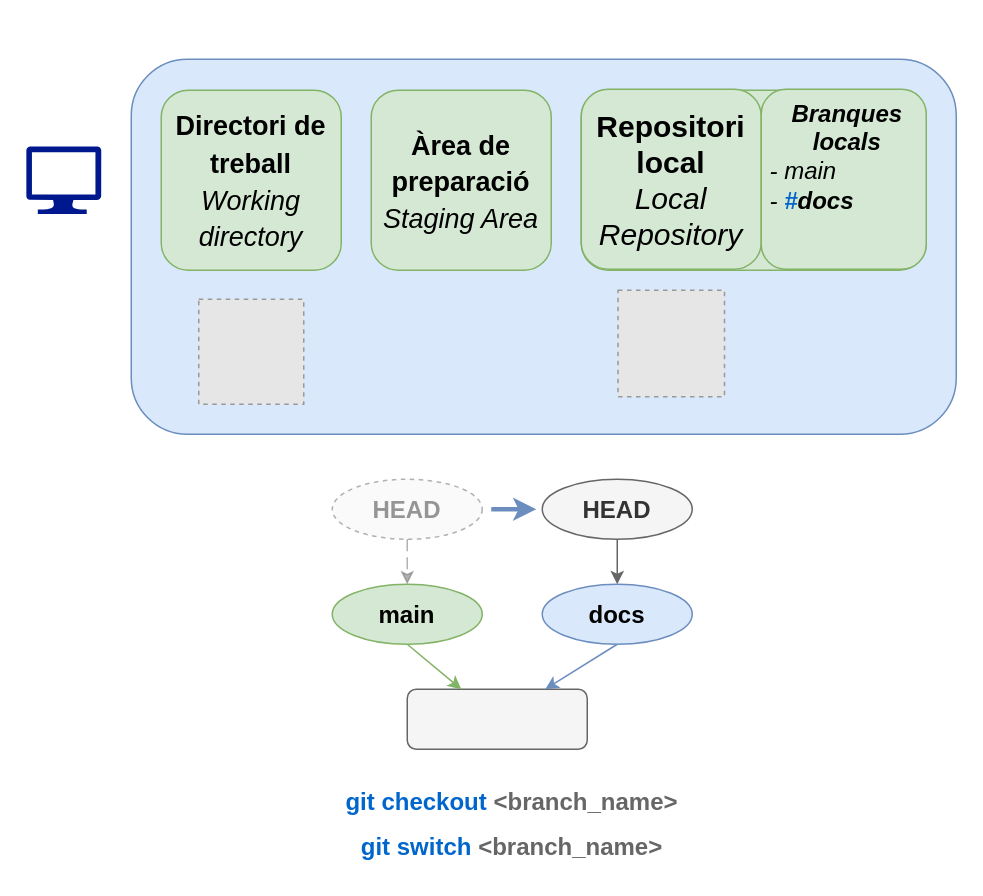
This 983x896 diagram has some shape labels left out. Grey dashed boxes stand in for pictures. The box of each missing label's shape, as (x1, y1, x2, y2) in pixels:
Local - Entorn de desenvolupament: (130, 58, 956, 434)
Títol 0b1b3b4: (406, 688, 587, 749)
